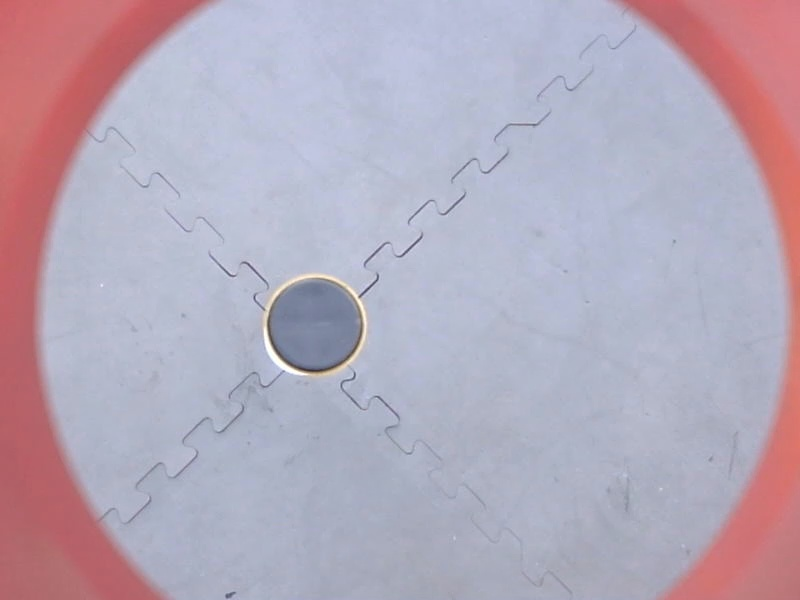tip: (255, 269, 377, 386)
